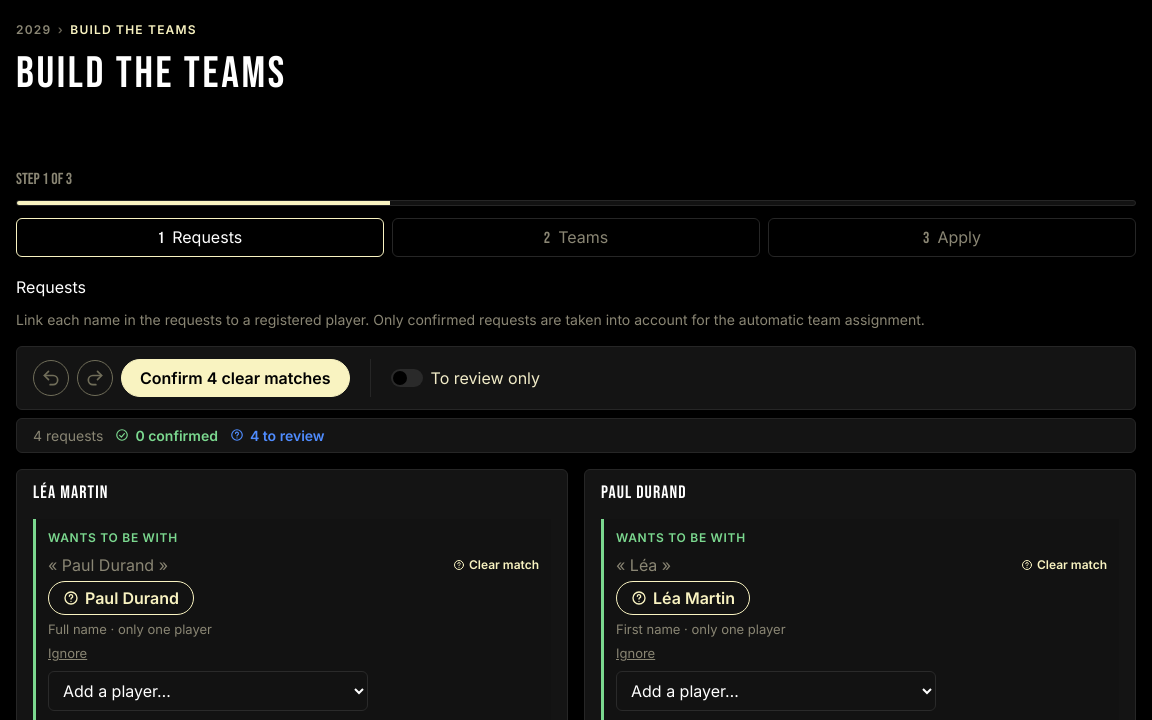
it: team builder page › names the team of a placed player in the sheet
Click the button "2 Teams" at (576, 238), box [392, 218, 760, 257]
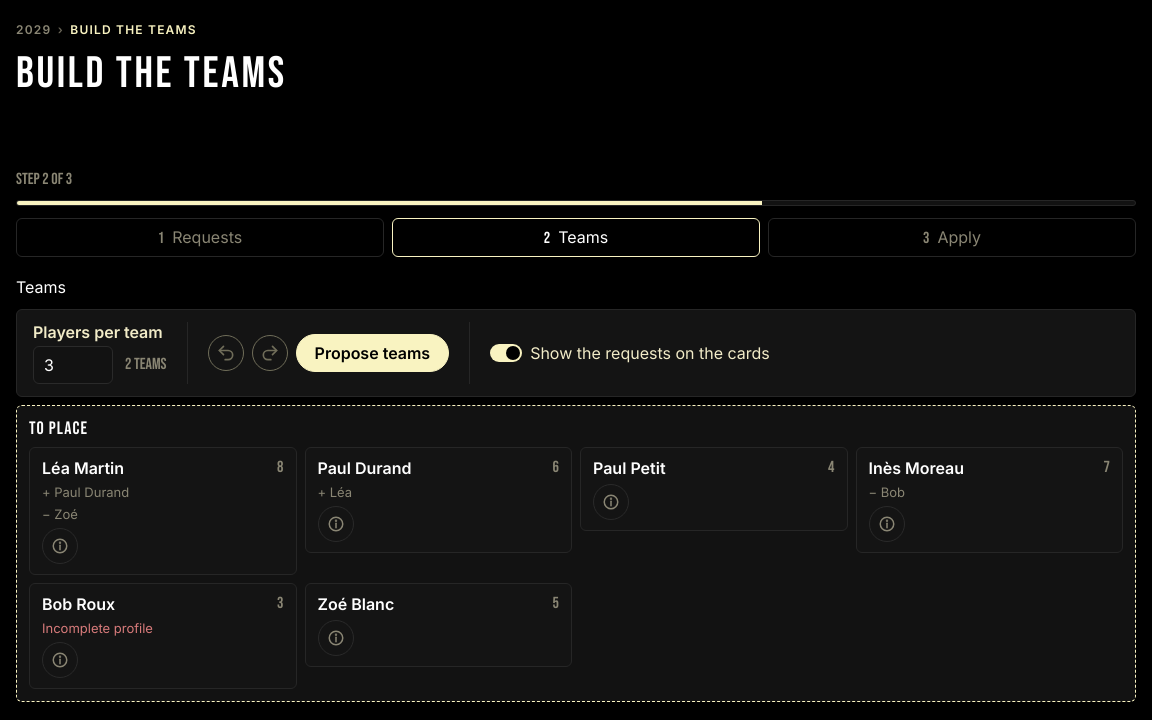
Click the button "Propose teams" at (372, 353), box [296, 334, 449, 372]
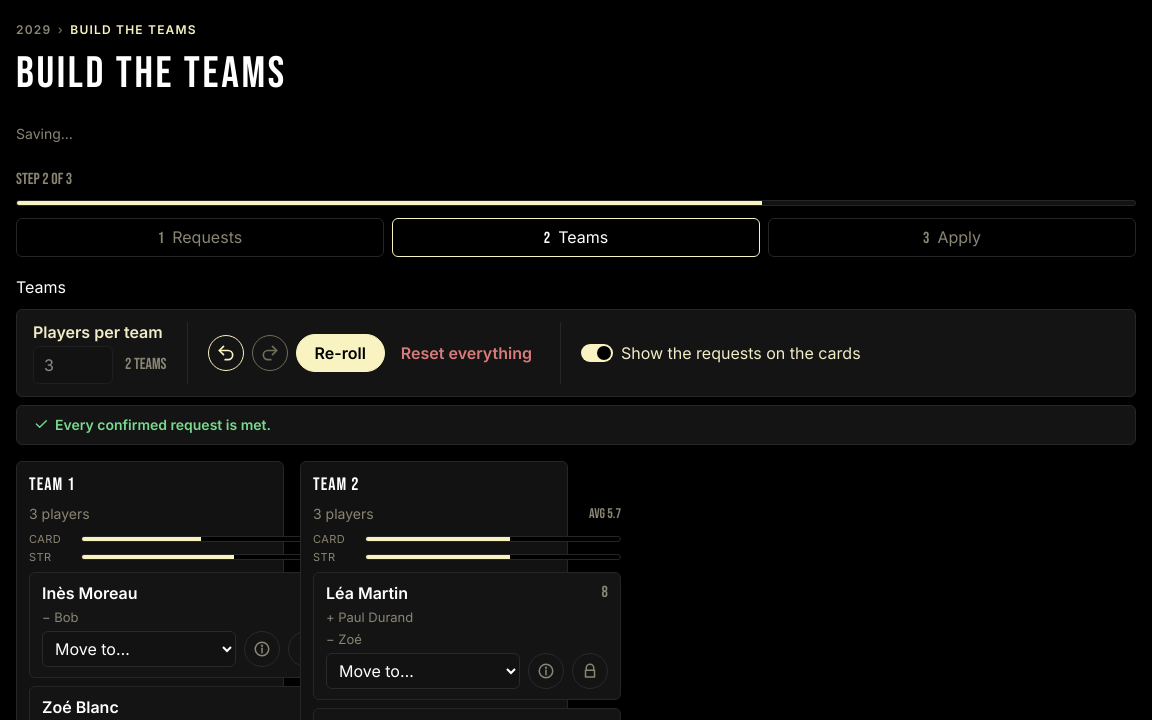
Click the button named "View Inès Moreau profile" at (262, 650), box [244, 632, 280, 668]
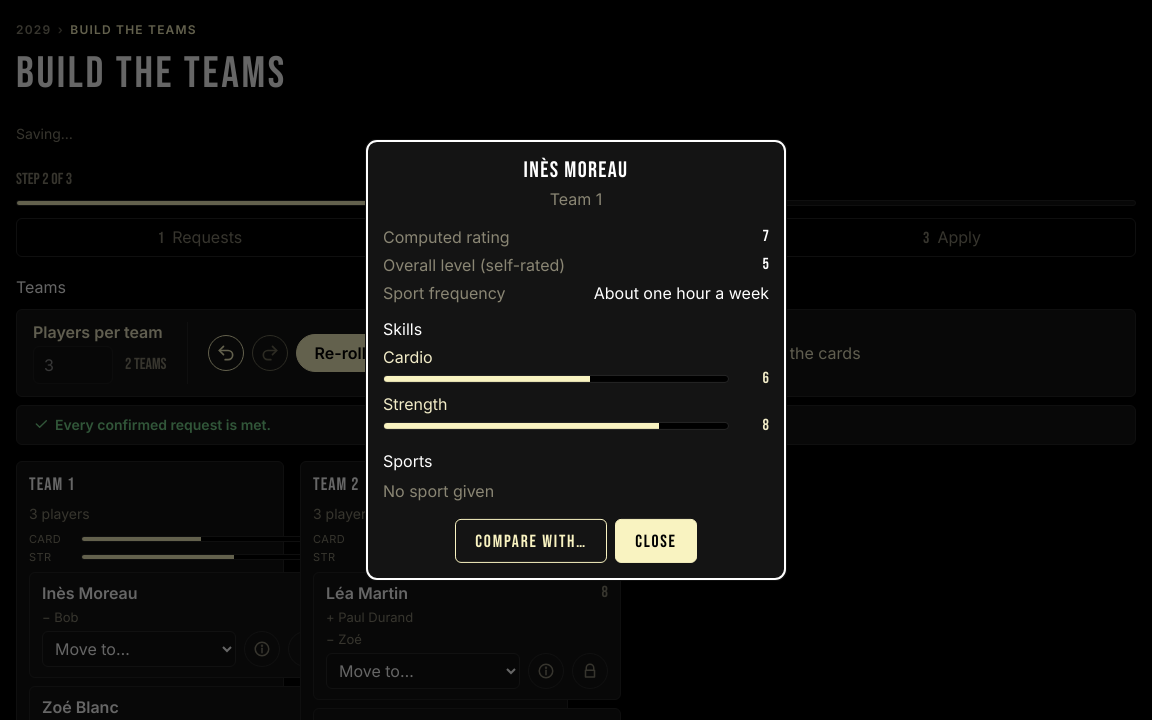
expect the text "Team 1" is shown: met, box [550, 189, 602, 209]
